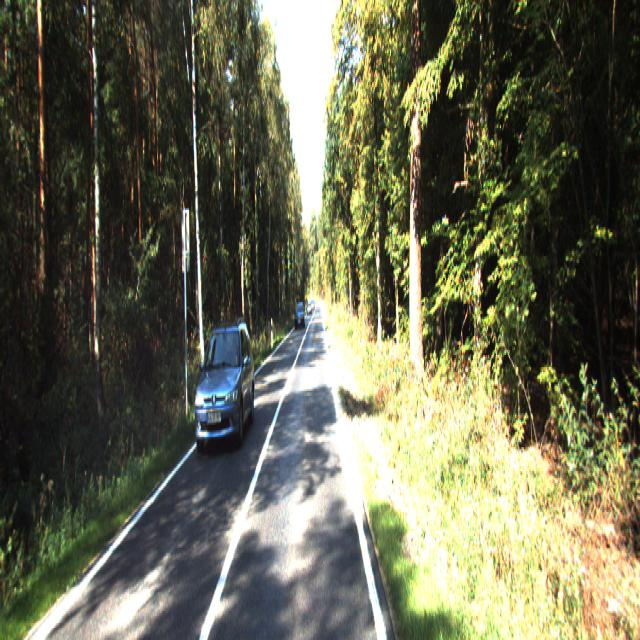Car: (192, 314, 258, 457)
